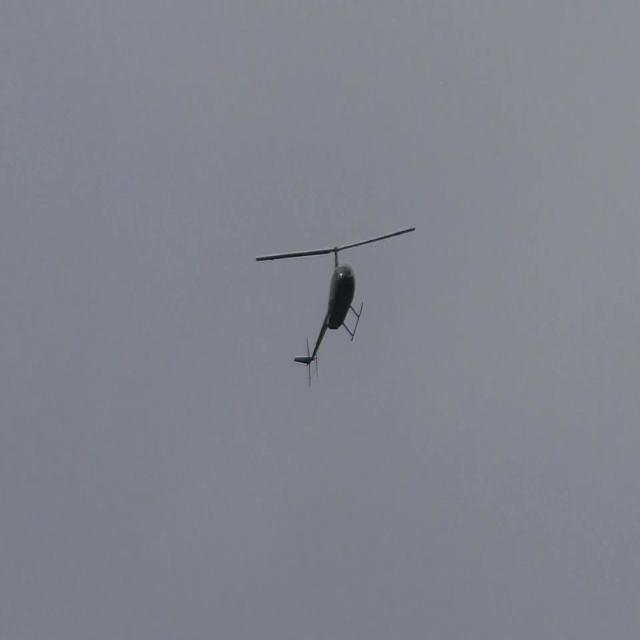CIV_HELO: (294, 245, 366, 367)
